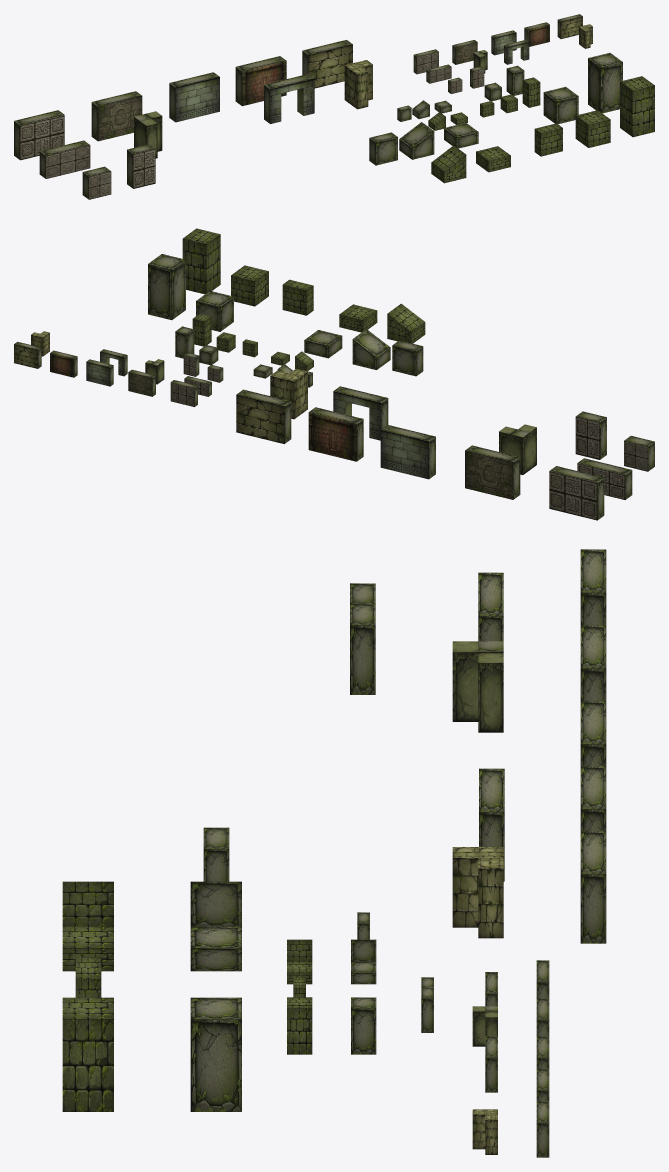
Rendered from TilesIndyStyle1.glb.
3 renders of one model, top to bottom at view 1: azimuth 30°, elevation 25°; view 2: azimuth 150°, elevation 25°; view 3: azimuth 270°, elevation 25°, orthographic. The views are drawn at different scales.
Visible parts, largest first — view 1: Cube.035, Cube.034, Cube.032, Cube.027, Cube.022, Cube.037, Cube.036, Cube.041, Cube.031, Cube.039, Cube.033, Cube.026 (+21 smaller); view 2: Cube.034, Cube.036, Cube.032, Cube.035, Cube.037, Cube.022, Cube.027, Cube.041, Cube.033, Cube.038, Cube.039, Cube.031 (+16 smaller); view 3: Cube.022, Cube.027, Cube.038, Cube.039, Cube.037, Cube.033, Cube.023, Cube.028, Cube.020, Cube.041, Cube.032, Cube.034 (+10 smaller).
Part boxes in pixels (<box>): Cube.035: <box>169,72,219,122</box>; Cube.034: <box>91,91,142,141</box>; Cube.032: <box>14,110,64,160</box>; Cube.027: <box>620,76,654,137</box>; Cube.022: <box>588,53,622,113</box>; Cube.037: <box>302,40,352,88</box>; Cube.036: <box>235,56,286,106</box>; Cube.041: <box>264,74,314,123</box>; Cube.031: <box>39,140,90,178</box>; Cube.039: <box>344,60,372,109</box>; Cube.033: <box>127,144,155,188</box>; Cube.026: <box>575,110,610,147</box>; Cube.034: <box>465,445,520,499</box>; Cube.036: <box>308,407,363,461</box>; Cube.032: <box>549,466,604,520</box>; Cube.035: <box>380,425,435,479</box>; Cube.037: <box>236,389,291,443</box>; Cube.022: <box>148,254,185,319</box>; Cube.027: <box>182,228,220,294</box>; Cube.041: <box>333,386,388,440</box>; Cube.033: <box>575,411,606,459</box>; Cube.038: <box>499,424,536,474</box>; Cube.039: <box>270,368,307,419</box>; Cube.031: <box>577,458,632,499</box>; Cube.022: <box>190,997,241,1111</box>; Cube.027: <box>62,997,113,1111</box>; Cube.038: <box>452,641,503,732</box>; Cube.039: <box>452,847,503,938</box>; Cube.037: <box>580,831,606,943</box>; Cube.033: <box>350,603,375,694</box>; Cube.023: <box>190,881,241,926</box>; Cube.028: <box>62,881,113,926</box>; Cube.020: <box>190,926,241,971</box>; Cube.041: <box>479,768,504,881</box>; Cube.032: <box>580,549,606,625</box>; Cube.034: <box>580,625,606,700</box>.
Size of the model in its own units: 99.5 by 8 by 42.44.
Materials: 1 (1 with a texture image).
